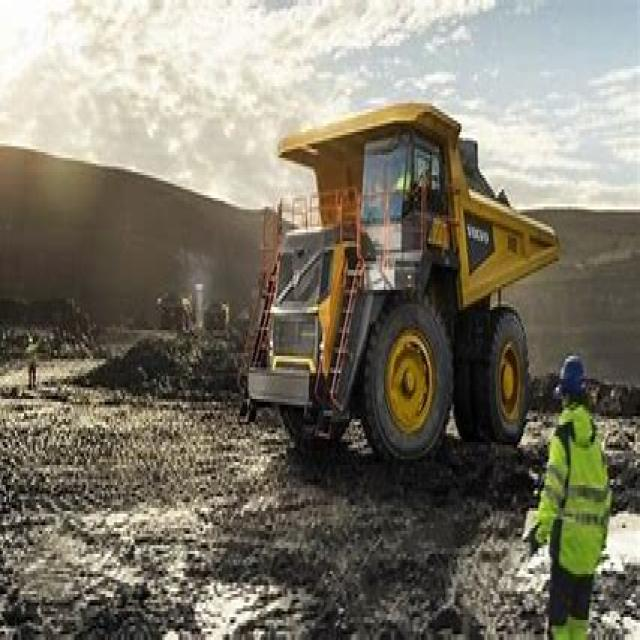dump_truck: (232, 92, 562, 448)
